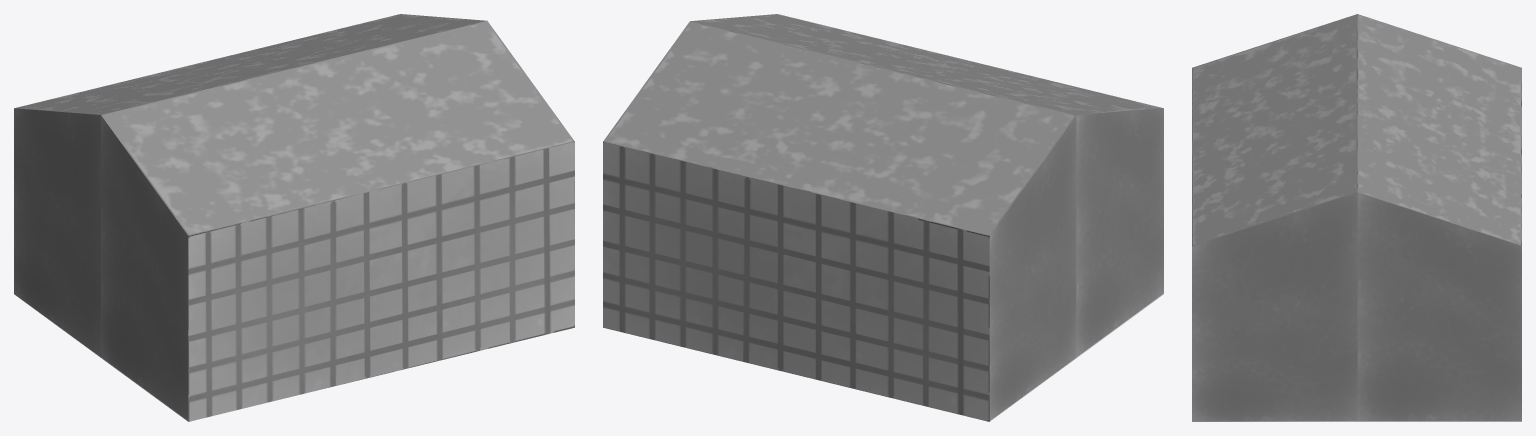
The model's file is warehouse.fbx.
3 renders of one model, left to right at view 1: azimuth 30°, elevation 25°; view 2: azimuth 150°, elevation 25°; view 3: azimuth 270°, elevation 25°, orthographic. The views are drawn at different scales.
Visible parts, largest first — view 1: Cube; view 2: Cube; view 3: Cube.
Boxes of the visible parts, box(x1,y1,x2,y2) form: Cube: box(14, 14, 574, 421); Cube: box(603, 14, 1163, 421); Cube: box(1192, 14, 1521, 421).
Size of the model in its own units: 5092 by 3057 by 3980.
